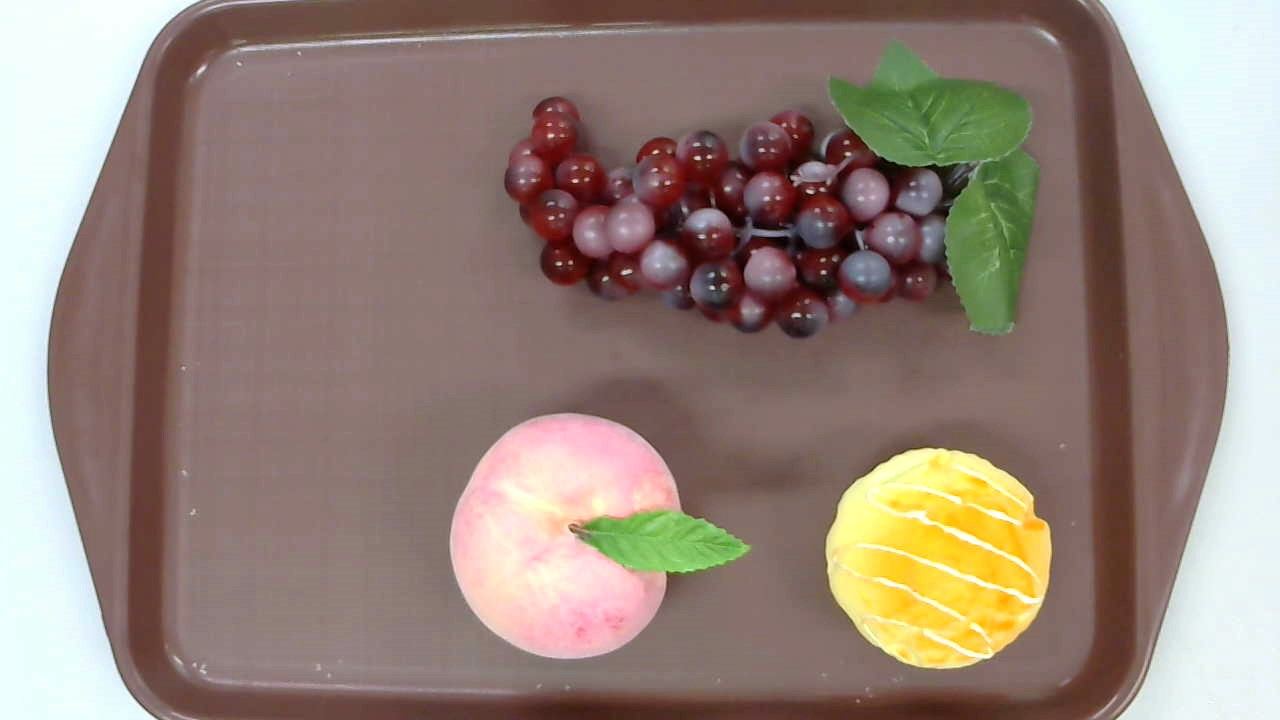cupcake: (823, 448, 1053, 668)
grape: (503, 38, 1041, 341)
peach: (448, 412, 753, 660)
